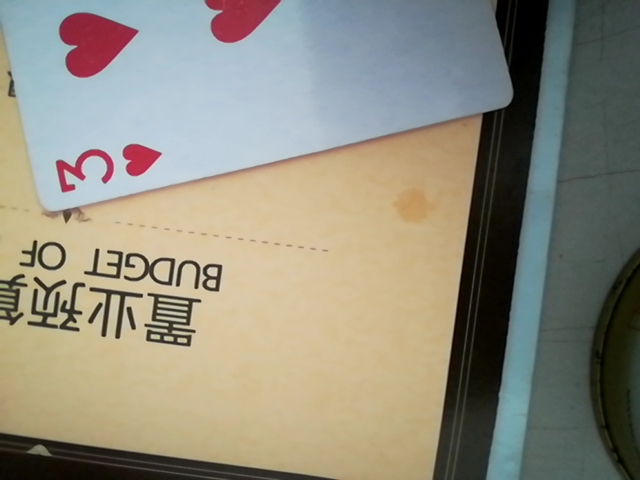hx 3: (4, 0, 529, 206)
